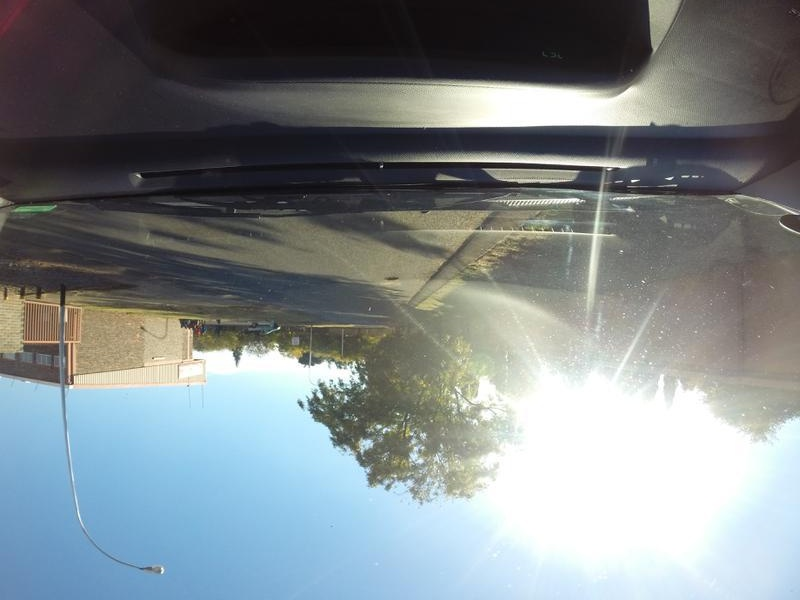pothole: (361, 272, 406, 286)
